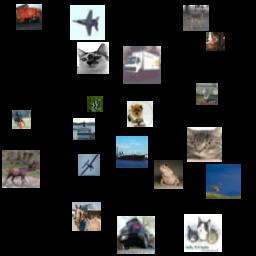airplane: (70, 5, 105, 40), (78, 154, 100, 176)
automobile: (117, 216, 155, 254)
cat: (184, 214, 222, 252), (187, 127, 222, 162), (77, 42, 109, 74), (196, 83, 218, 105)
deer: (2, 150, 40, 188), (206, 164, 241, 199), (183, 5, 209, 31)
dog: (127, 101, 153, 127)
frog: (154, 160, 183, 189), (87, 96, 103, 112)
ship: (116, 136, 148, 168), (73, 118, 95, 140)
truck: (123, 46, 161, 84), (16, 4, 42, 30), (206, 32, 225, 51)
